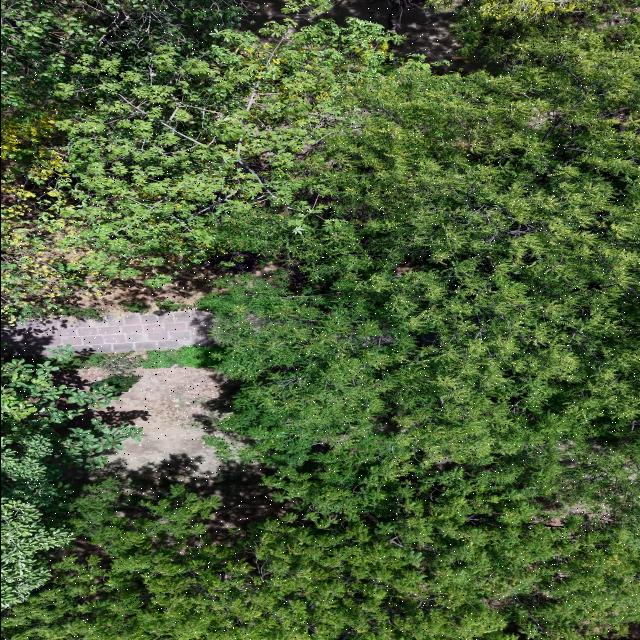DRY_AREA: (88, 366, 288, 539), (94, 366, 288, 539), (102, 366, 287, 540), (1, 251, 278, 356), (1, 251, 278, 354), (1, 259, 224, 356), (1, 260, 222, 356), (295, 0, 479, 71), (109, 367, 223, 476), (296, 0, 458, 60), (1, 309, 211, 355), (66, 258, 225, 313)
PATHWAYS: (1, 309, 211, 356)
VEGETATION_TREE: (1, 0, 639, 639), (204, 11, 639, 591), (203, 9, 639, 502), (1, 0, 389, 315), (3, 469, 639, 639), (55, 21, 389, 276), (1, 352, 144, 606), (1, 0, 245, 110), (74, 346, 222, 372)
